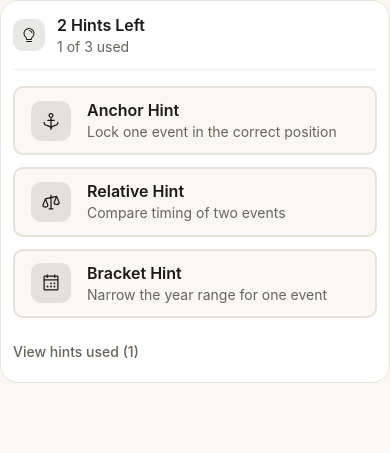
Order HintDisplay › shows hint history entries when hints exist
Check: the text "View hints used (1)" is shown, box [13,342,139,362]
Click the button "View hints used (1)" at (70, 351), box [13,334,377,370]
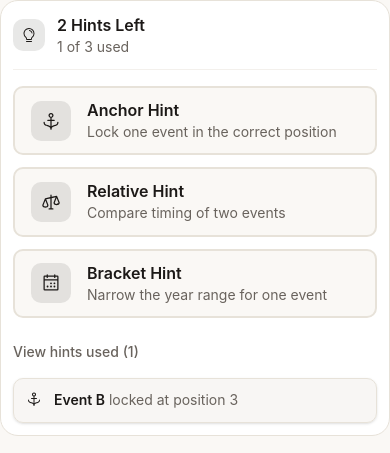
Check: the text "Event B" is shown, box [54,391,105,408]
Check: the text "locked at position 3" is shown, box [105,391,238,408]
